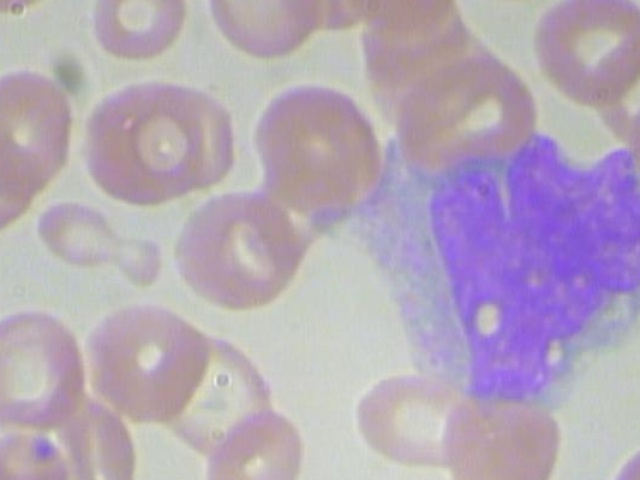RBC: (162, 189, 327, 321), (0, 294, 106, 443), (524, 0, 640, 120), (198, 398, 310, 480), (0, 423, 87, 480)
WBC: (336, 129, 640, 420)
